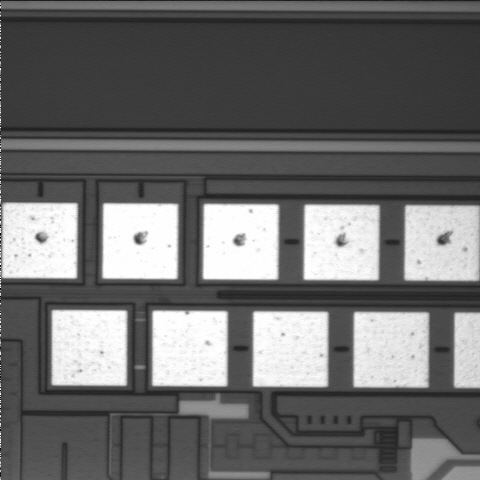pad: (2, 203, 78, 279), (102, 203, 178, 279), (203, 204, 279, 280), (52, 310, 127, 386), (152, 311, 228, 386), (253, 311, 328, 387), (304, 205, 379, 280), (354, 312, 429, 387)
